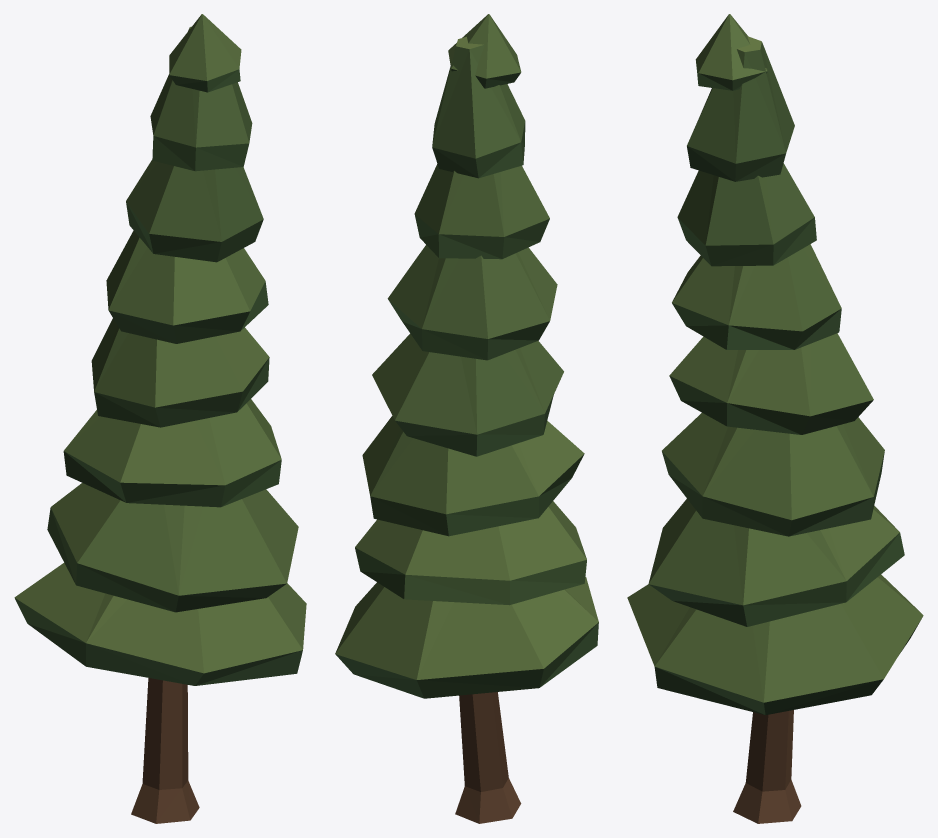
The model's file is pine-tall.glb.
The picture shows the model from 3 angles, left to right: view 1: azimuth 30°, elevation 25°; view 2: azimuth 150°, elevation 25°; view 3: azimuth 270°, elevation 25°; orthographic projection. The views are drawn at different scales.
Visible parts, largest first — view 1: pine-tall; view 2: pine-tall; view 3: pine-tall.
Boxes of the visible parts, box(x1,y1,x2,y2) form: pine-tall: box(14, 14, 306, 823); pine-tall: box(335, 14, 598, 823); pine-tall: box(627, 14, 923, 823).
Bounding box in the file's own units: 4.51 × 14.28 × 4.76.
